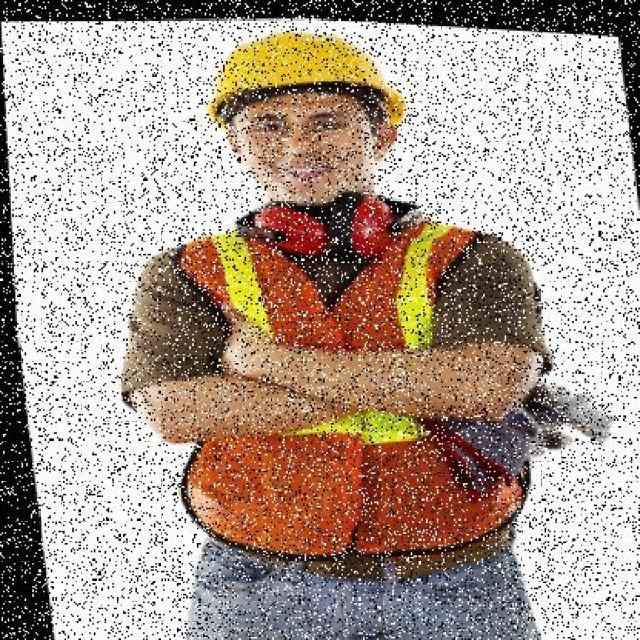helmet: (203, 22, 402, 119)
vest: (163, 200, 505, 580)
